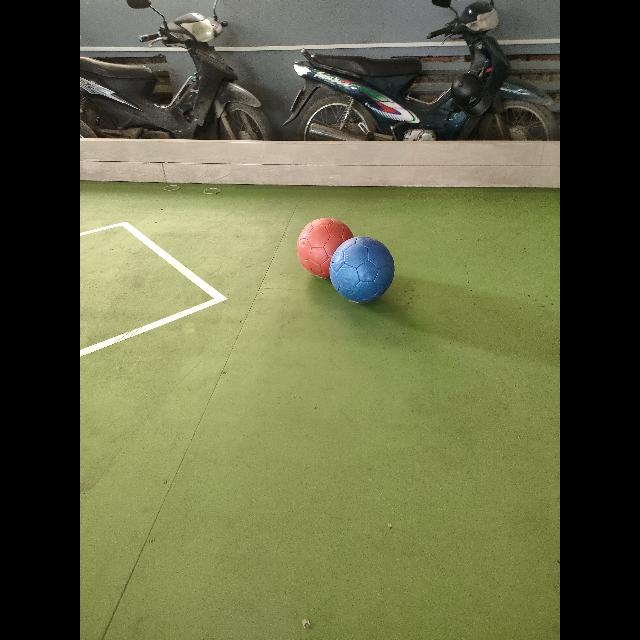B: (329, 236, 395, 302)
R: (296, 218, 352, 278)
